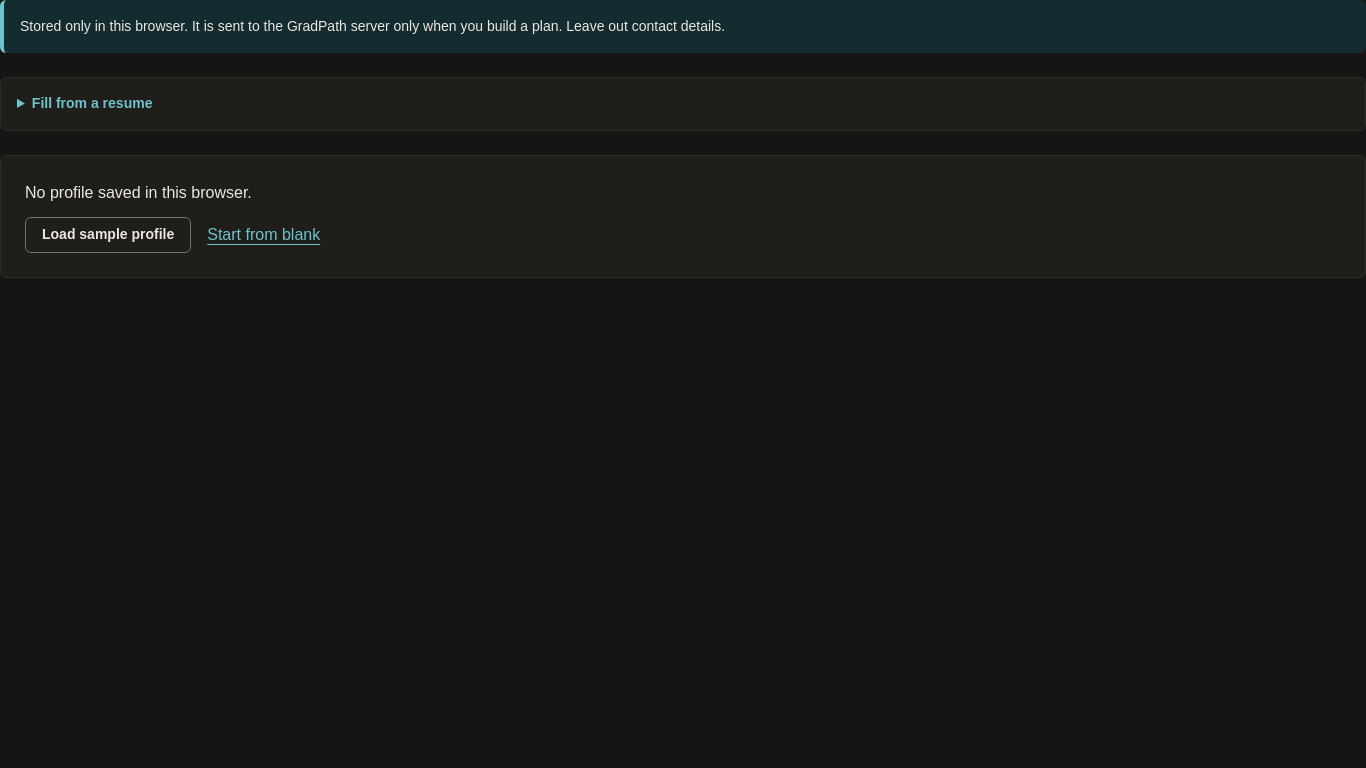
empty state › start from blank shows an empty form
Expected: the text "Stored only in this browser" is shown, [20,18,725,34]
Click the button "Start from blank" at (264, 235), box [207,222,320,248]
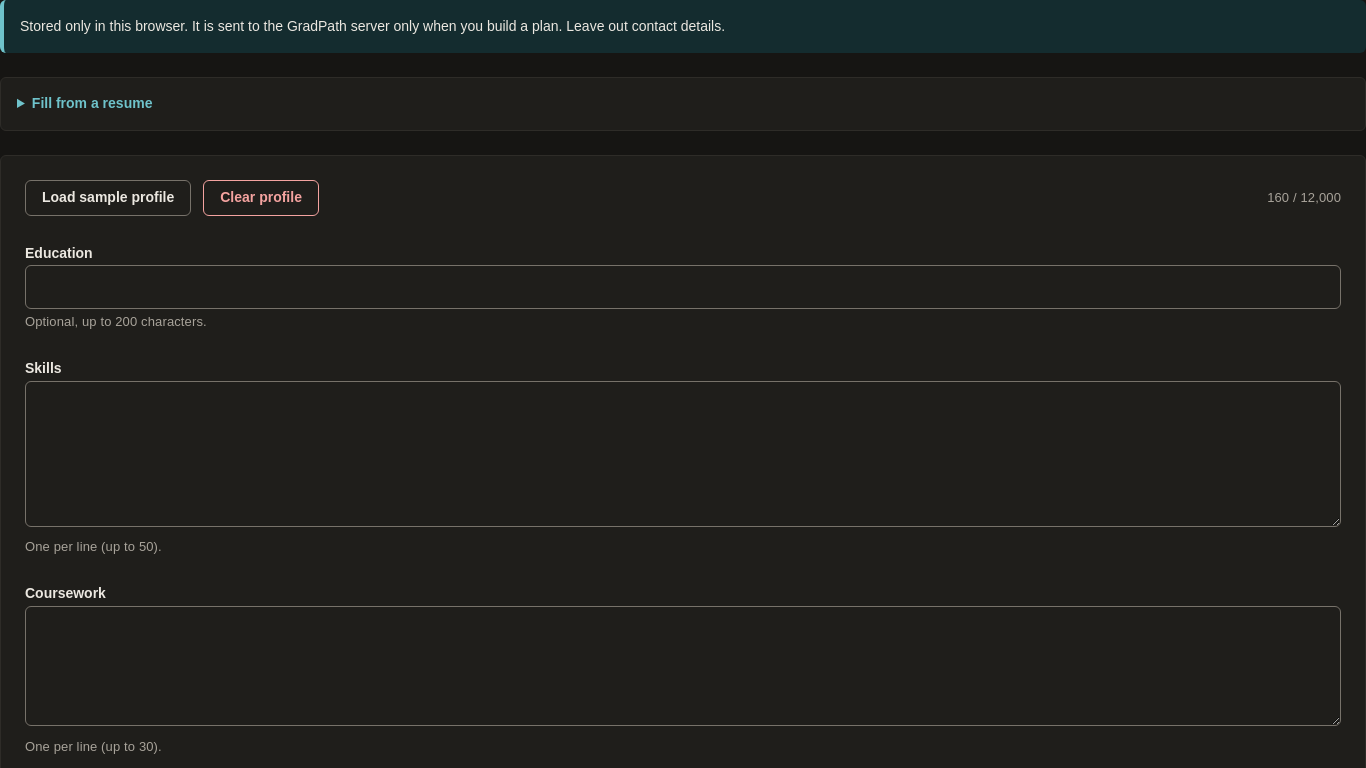
Expected: the text "160 / 12,000" is shown, [1267,188,1341,207]
